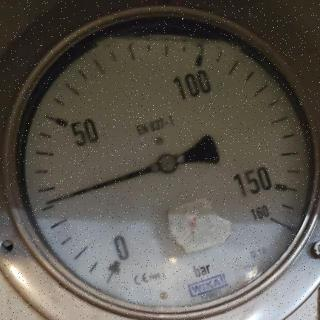gauge: (0, 0, 320, 320), (86, 227, 146, 292), (248, 195, 298, 245), (157, 151, 179, 175), (42, 195, 58, 209)
